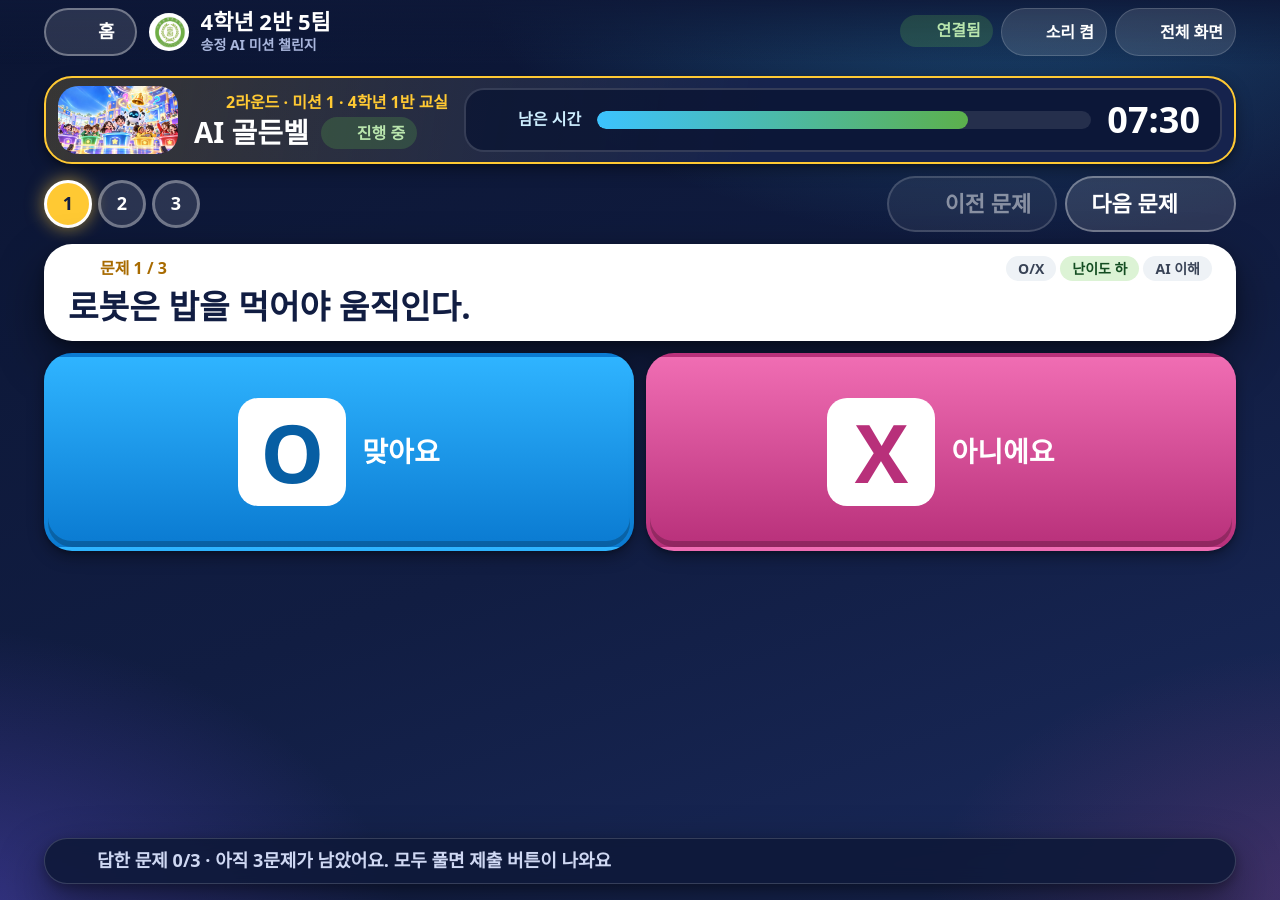
학생 골든벨: O/X, 객관식, 단답형 › 문제를 넘겼다가 돌아와도 적어 둔 단답형 답이 남아 있다
Click the button named "3번 문제, 아직 안 풂" at (176, 204), box top-left (152, 180), bottom-right (200, 228)
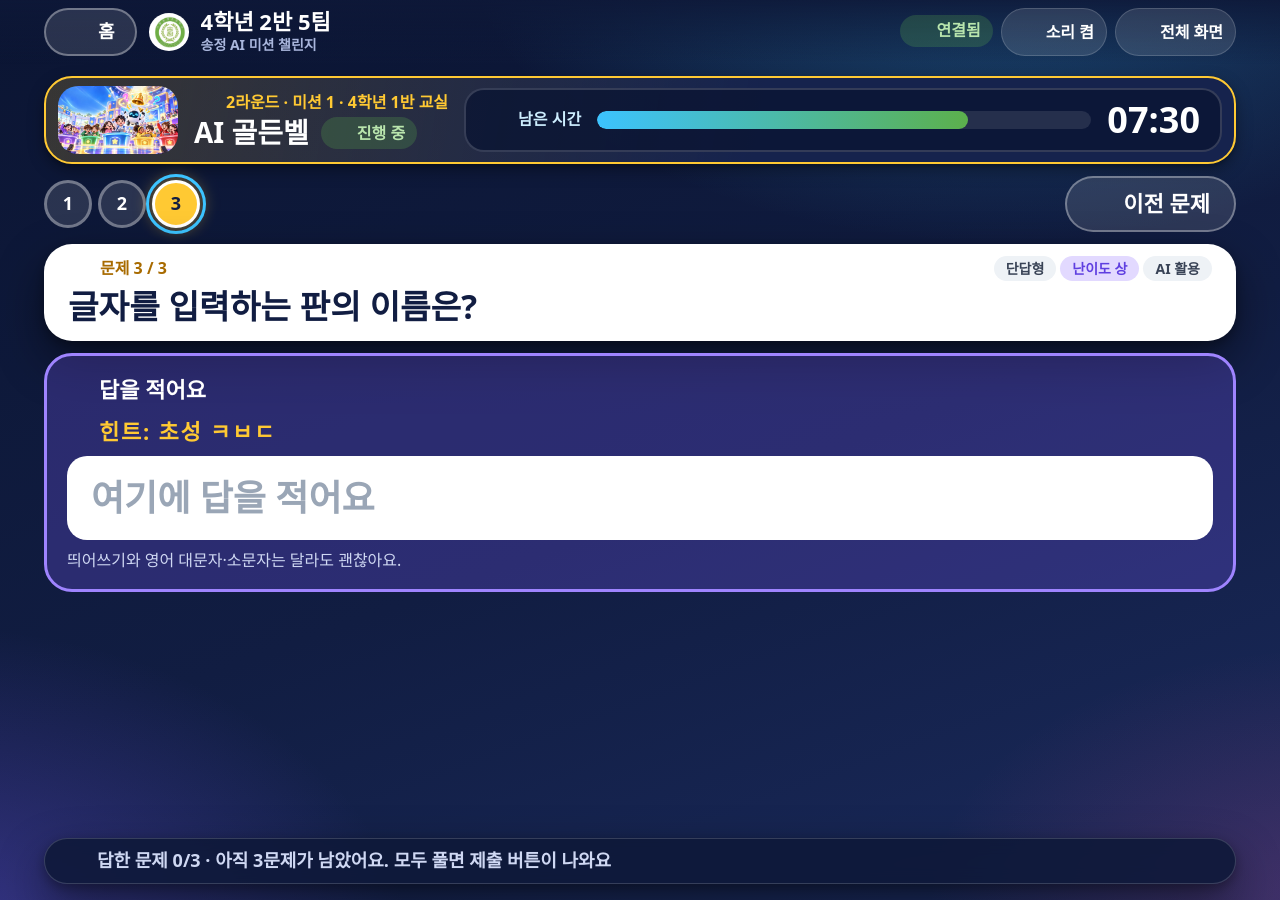
Type "자판" into the field labelled "답을 적어요" at (640, 498), box top-left (67, 456), bottom-right (1213, 540)
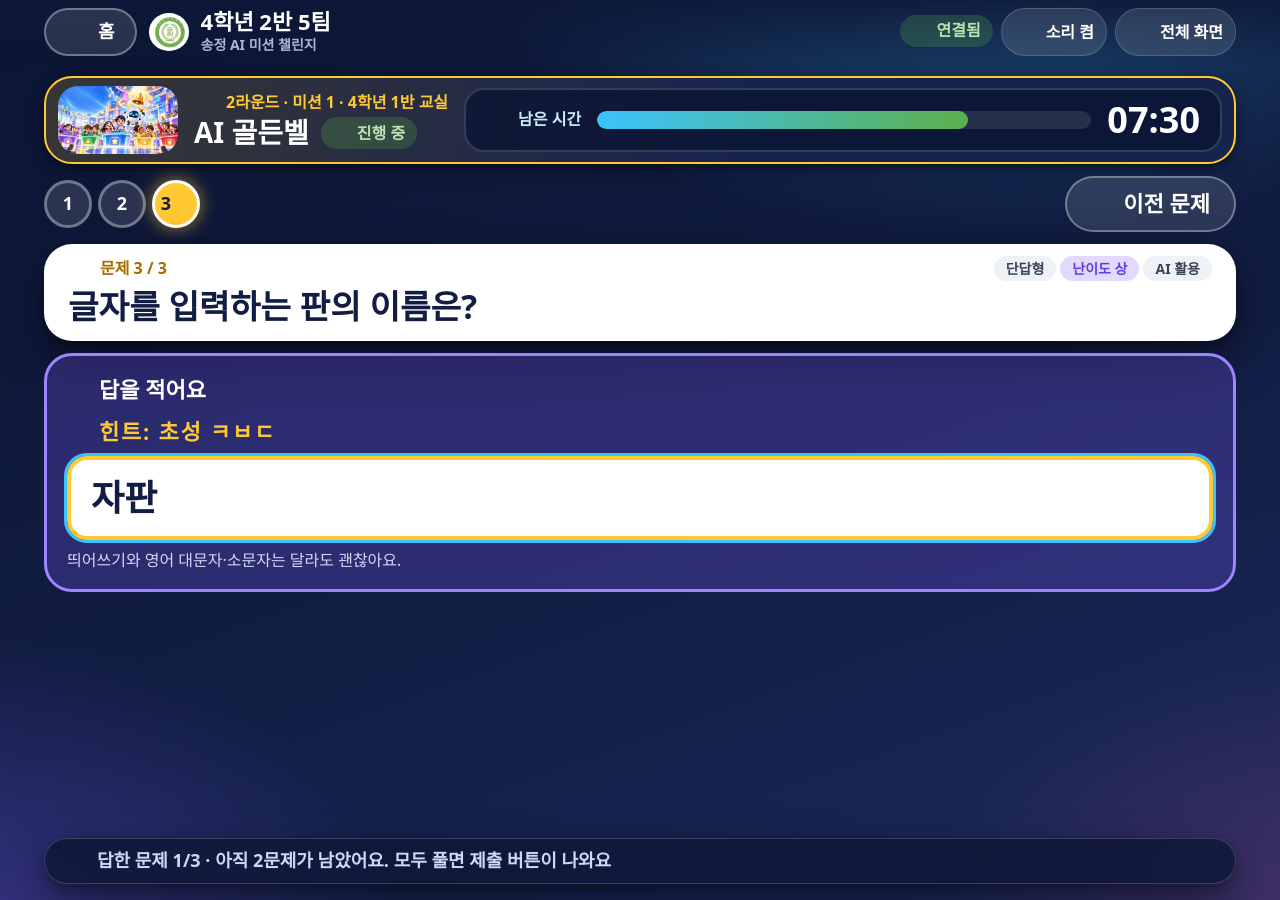
Click the button "이전 문제" at (1151, 204), box top-left (1065, 176), bottom-right (1236, 232)
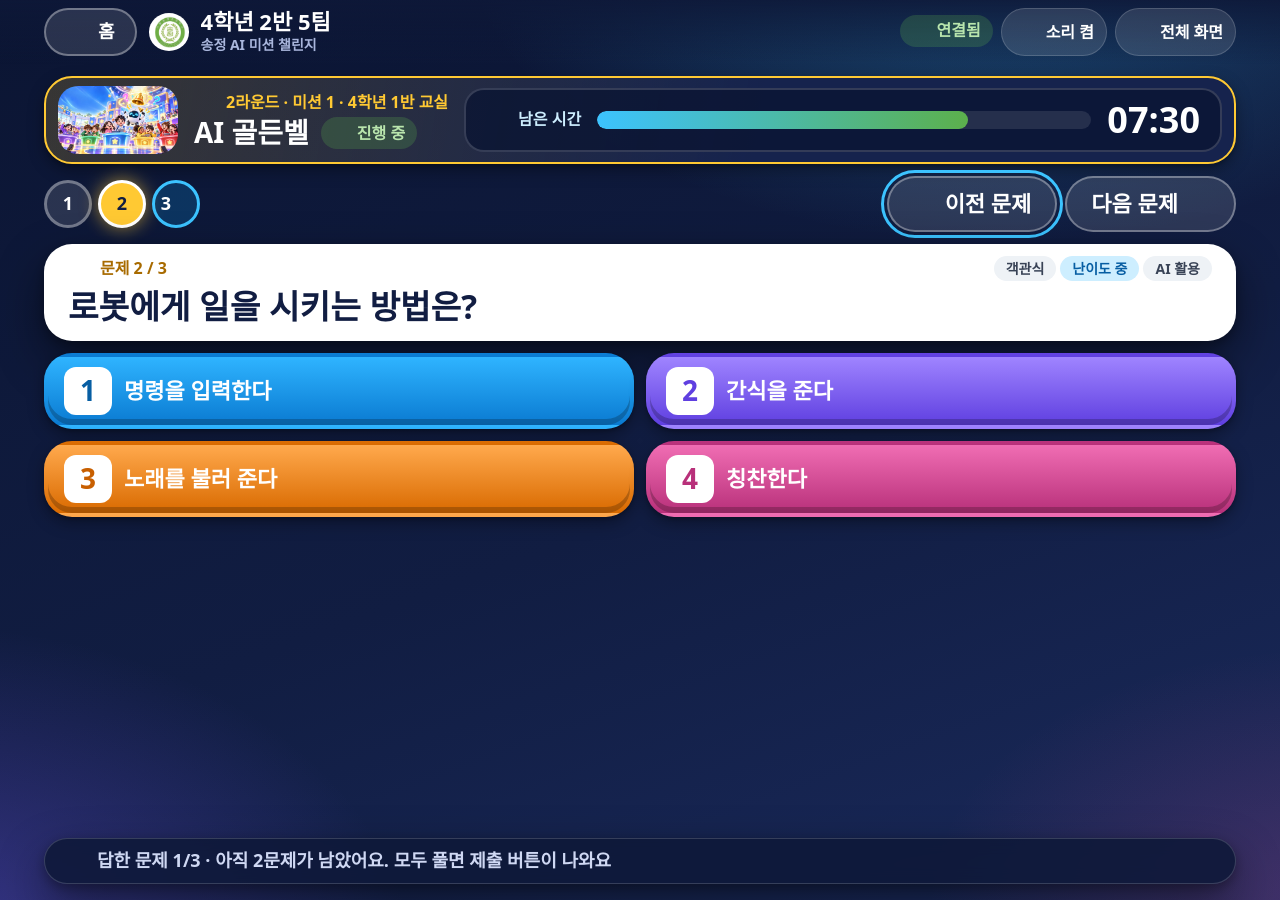
Expected: the text "문제 2 / 3" is shown, top-left (68, 256), bottom-right (167, 281)
Click the button named "3번 문제, 답함" at (176, 204), box top-left (152, 180), bottom-right (200, 228)
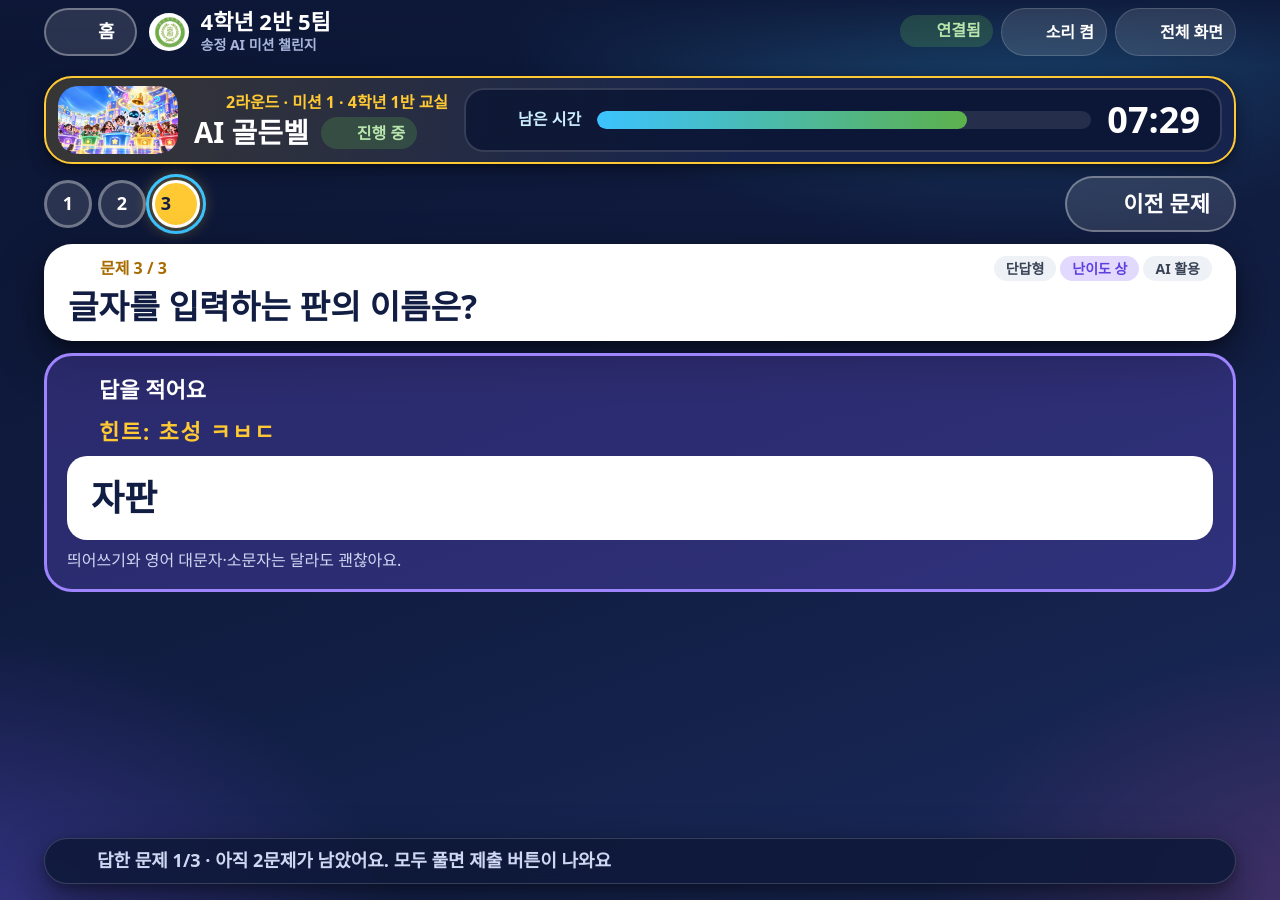
Expected: the field labelled "답을 적어요" holds "자판", top-left (67, 456), bottom-right (1213, 540)
